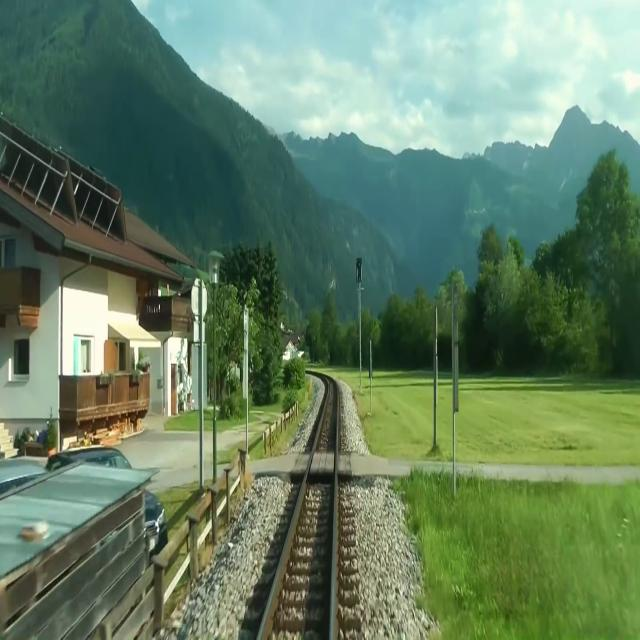rail-track: (261, 382, 335, 639)
